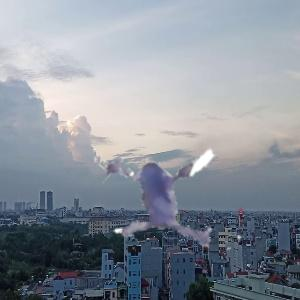drone: (84, 84, 286, 286)
